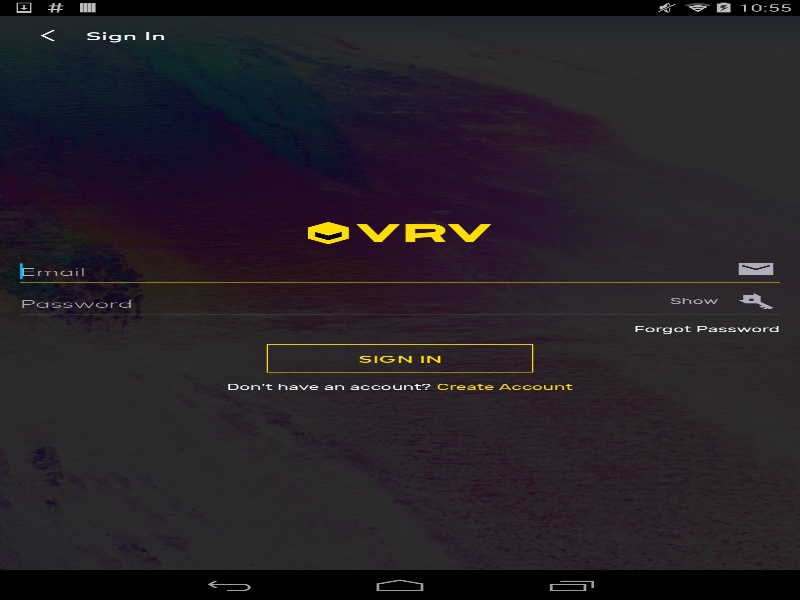Button: (266, 344, 533, 372), (633, 314, 780, 344), (10, 15, 85, 55)
Input: (20, 260, 732, 278), (20, 291, 656, 310)
